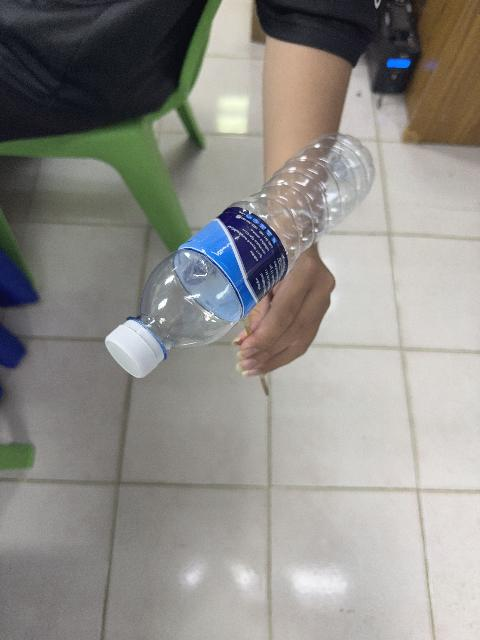bottle: (105, 135, 373, 377)
